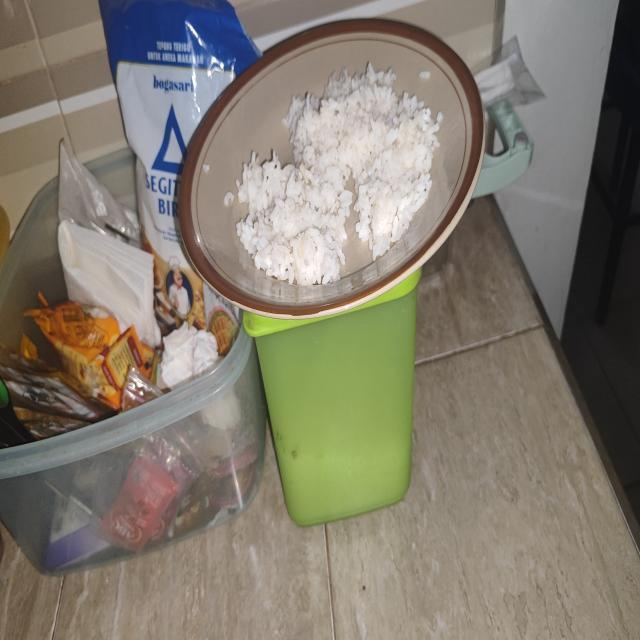nasi_putih: (236, 62, 439, 286)
